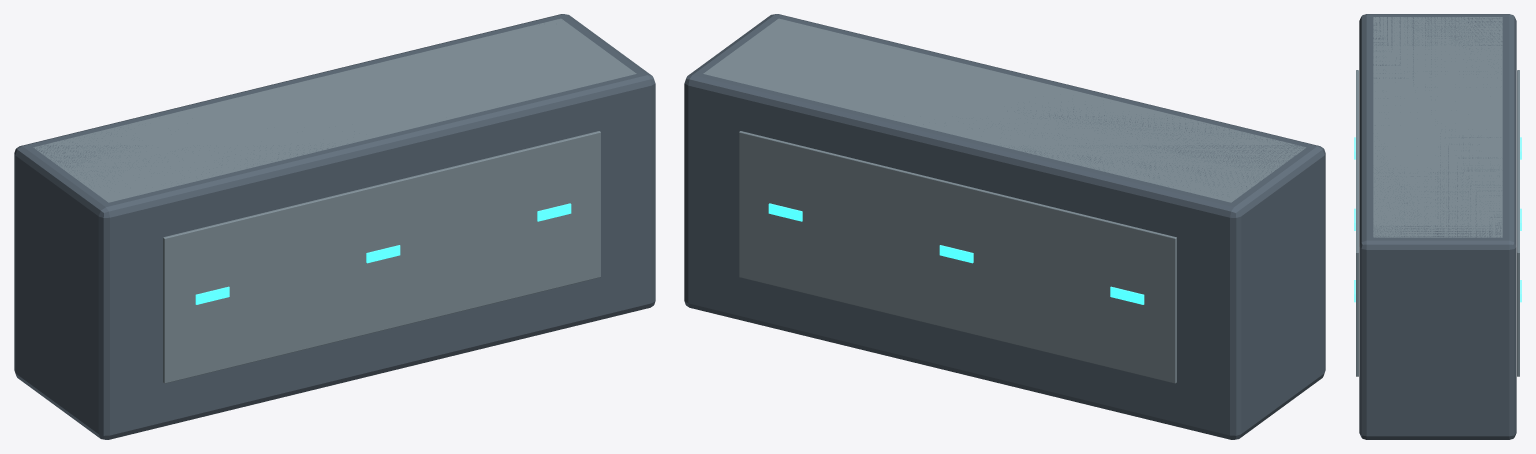
Rendered from core-screen.glb.
3 views of the same model, side by side, from view 1: azimuth 30°, elevation 25°; view 2: azimuth 150°, elevation 25°; view 3: azimuth 270°, elevation 25° (orthographic). The views are drawn at different scales.
Parts seen in each view (by area): view 1: Visual_Merged_ZA_CoreScreen_Root_Neutral_Steel, Visual_CoreScreen_Shell, Visual_Merged_ZA_CoreScreen_Root_Zero_Cyan_Emissive; view 2: Visual_Merged_ZA_CoreScreen_Root_Neutral_Steel, Visual_CoreScreen_Shell, Visual_Merged_ZA_CoreScreen_Root_Zero_Cyan_Emissive; view 3: Visual_CoreScreen_Shell, Visual_Merged_ZA_CoreScreen_Root_Neutral_Steel, Visual_Merged_ZA_CoreScreen_Root_Zero_Cyan_Emissive.
Boxes of the visible parts, bbox=[...] form: Visual_Merged_ZA_CoreScreen_Root_Neutral_Steel: bbox=[33, 18, 636, 383]; Visual_CoreScreen_Shell: bbox=[14, 14, 655, 439]; Visual_Merged_ZA_CoreScreen_Root_Zero_Cyan_Emissive: bbox=[195, 203, 571, 304]; Visual_Merged_ZA_CoreScreen_Root_Neutral_Steel: bbox=[703, 18, 1305, 383]; Visual_CoreScreen_Shell: bbox=[684, 14, 1325, 439]; Visual_Merged_ZA_CoreScreen_Root_Zero_Cyan_Emissive: bbox=[768, 203, 1144, 304]; Visual_CoreScreen_Shell: bbox=[1359, 14, 1516, 439]; Visual_Merged_ZA_CoreScreen_Root_Neutral_Steel: bbox=[1356, 17, 1519, 376]; Visual_Merged_ZA_CoreScreen_Root_Zero_Cyan_Emissive: bbox=[1354, 137, 1521, 302].
Size of the model in its own units: 7 by 2.8 by 2.13.
